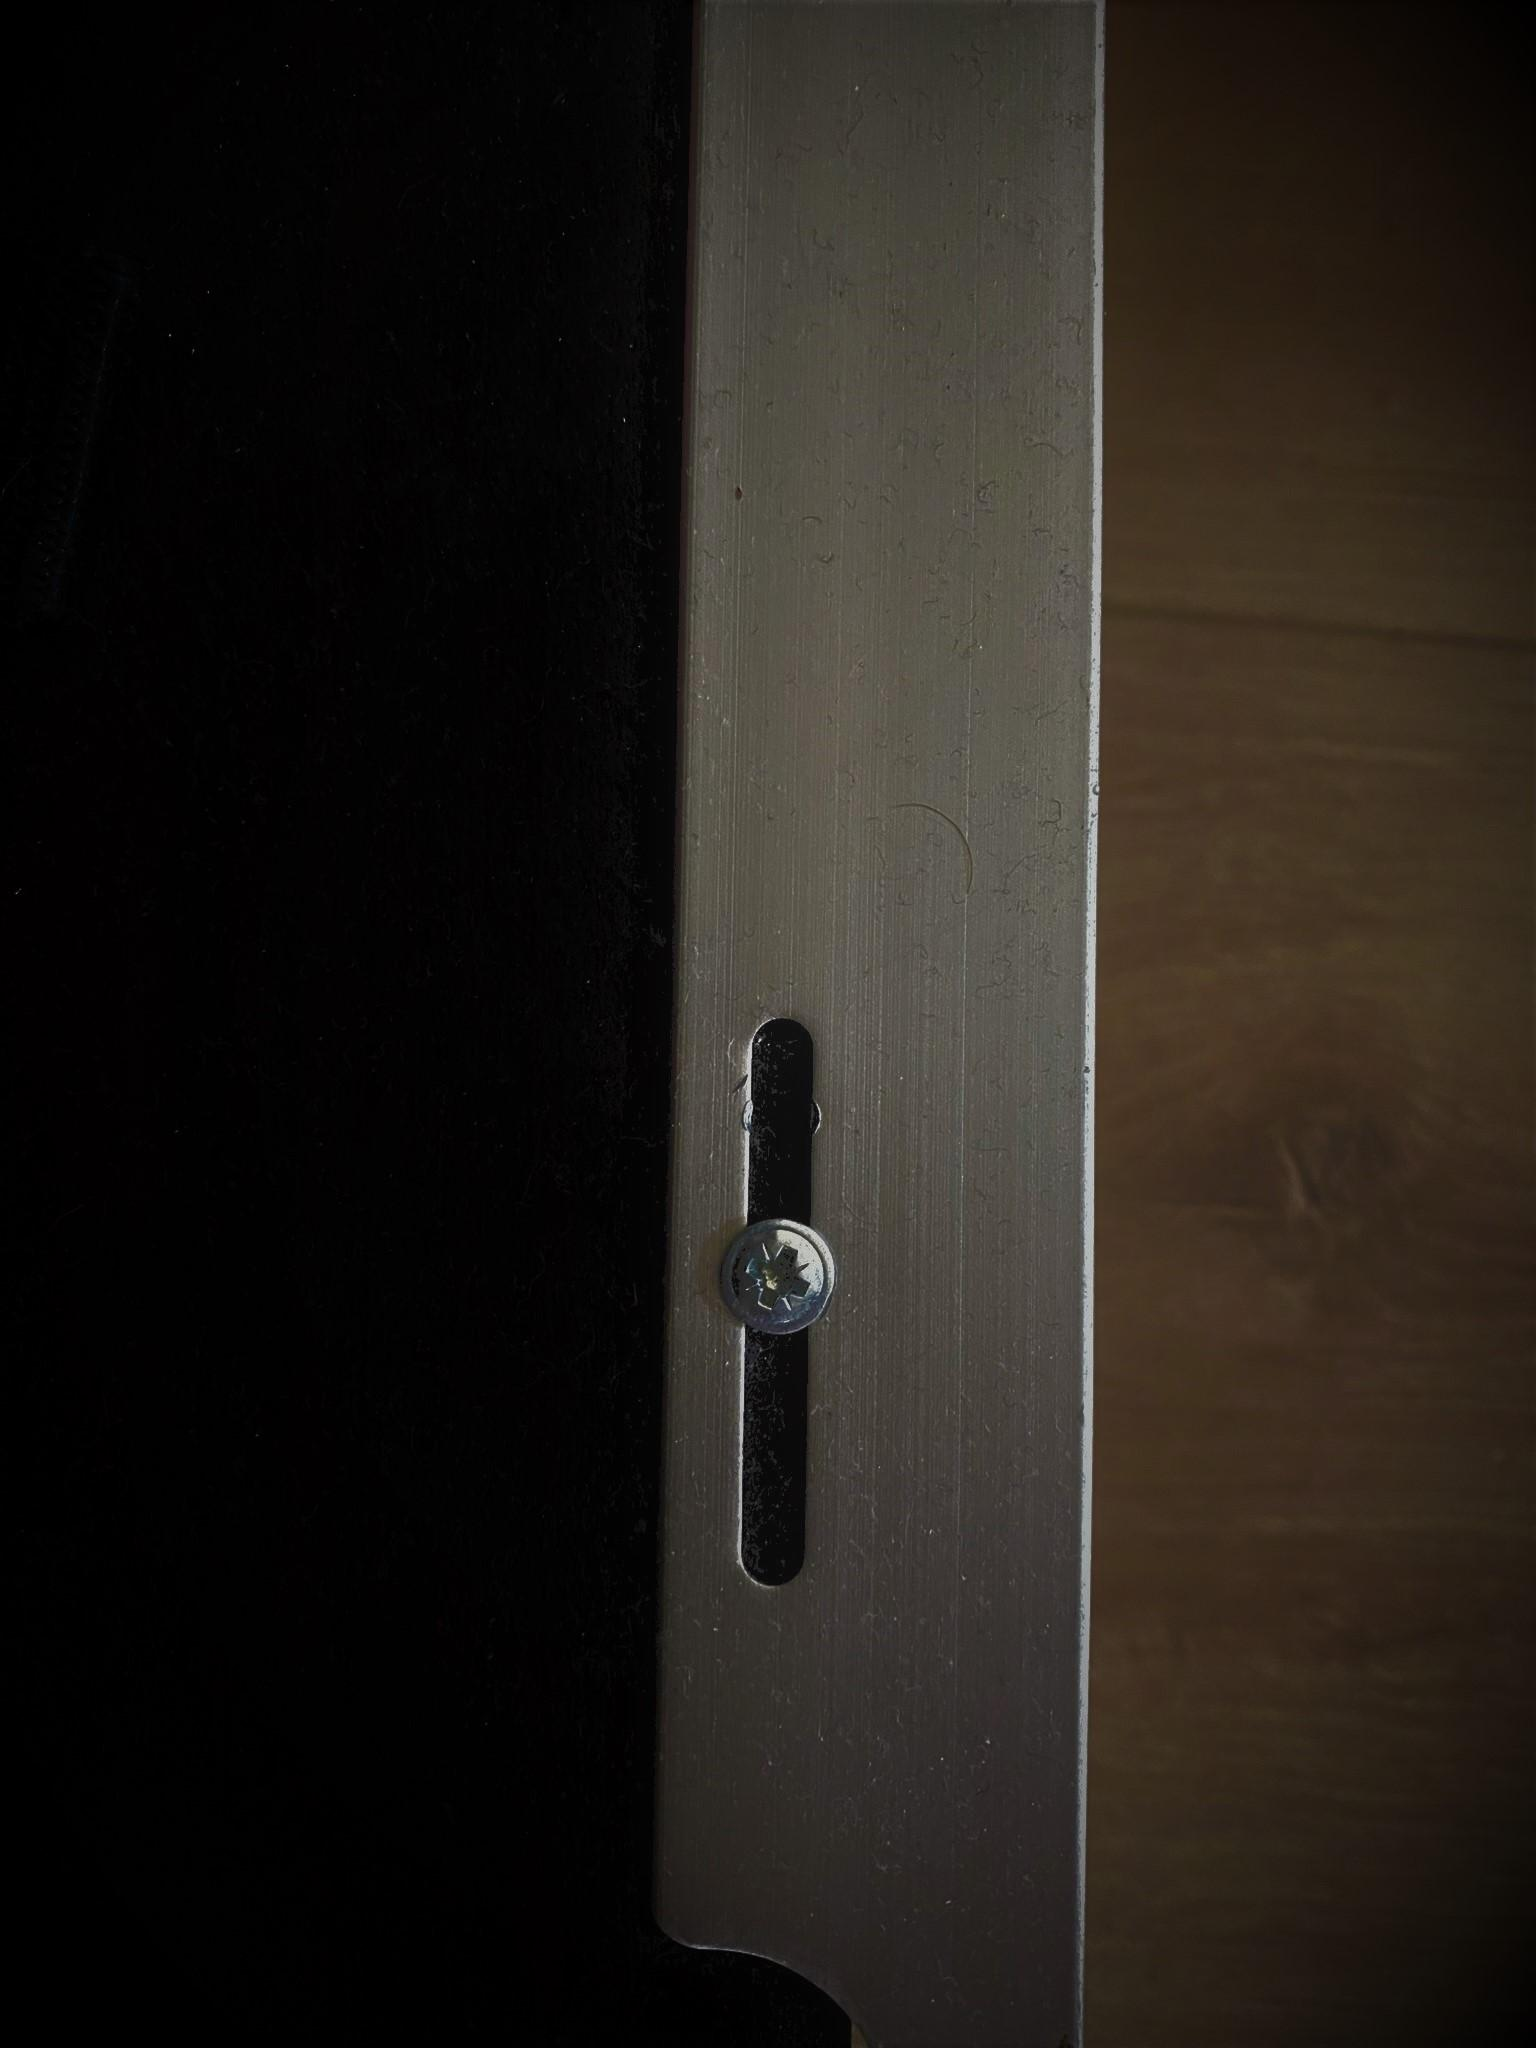PH: (716, 1216, 842, 1335)
